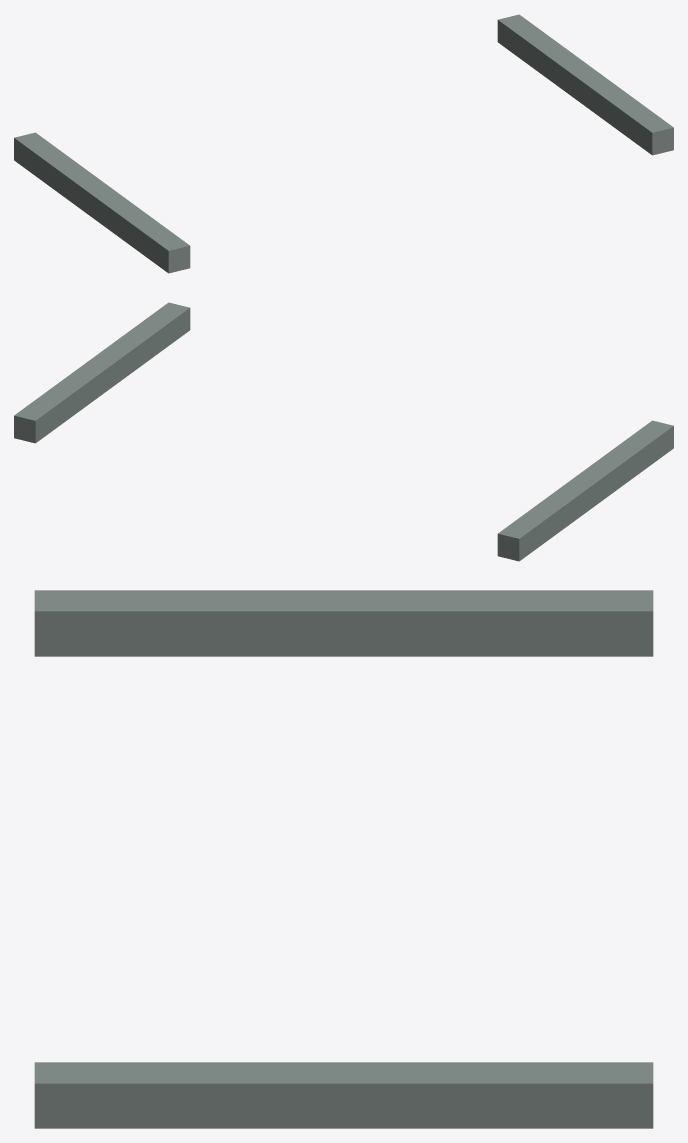
Rendered from Bumper.glb.
3 renders of one model, top to bottom at view 1: azimuth 30°, elevation 25°; view 2: azimuth 150°, elevation 25°; view 3: azimuth 270°, elevation 25°, orthographic. The views are drawn at different scales.
Parts seen in each view (by area): view 1: Cube.058; view 2: Cube.058; view 3: Cube.058.
Boxes of the visible parts, bbox=[...] form: Cube.058: bbox=[14, 14, 673, 273]; Cube.058: bbox=[14, 302, 673, 561]; Cube.058: bbox=[34, 590, 653, 1128].
Size of the model in its own units: 0.151 by 0.00645 by 0.08.
Materials: 1 (1 with a texture image).
